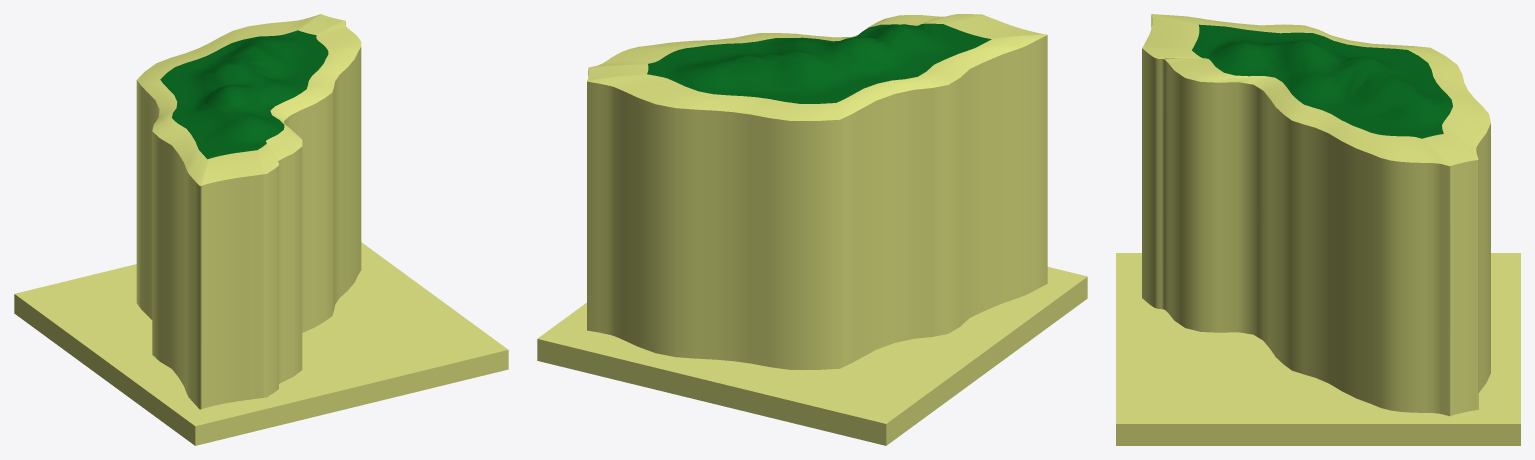
Rendered from Wild_Medium_Island_02.fbx.
The picture shows the model from 3 angles, left to right: view 1: azimuth 30°, elevation 25°; view 2: azimuth 150°, elevation 25°; view 3: azimuth 270°, elevation 25°; orthographic projection. The views are drawn at different scales.
Visible parts, largest first — view 1: Wild_Medium_Island_02; view 2: Wild_Medium_Island_02; view 3: Wild_Medium_Island_02.
Boxes of the visible parts, box(x1,y1,x2,y2) form: Wild_Medium_Island_02: box(14, 14, 508, 445); Wild_Medium_Island_02: box(537, 14, 1087, 445); Wild_Medium_Island_02: box(1116, 14, 1520, 445).
Size of the model in its own units: 68.06 by 55.38 by 68.06.
